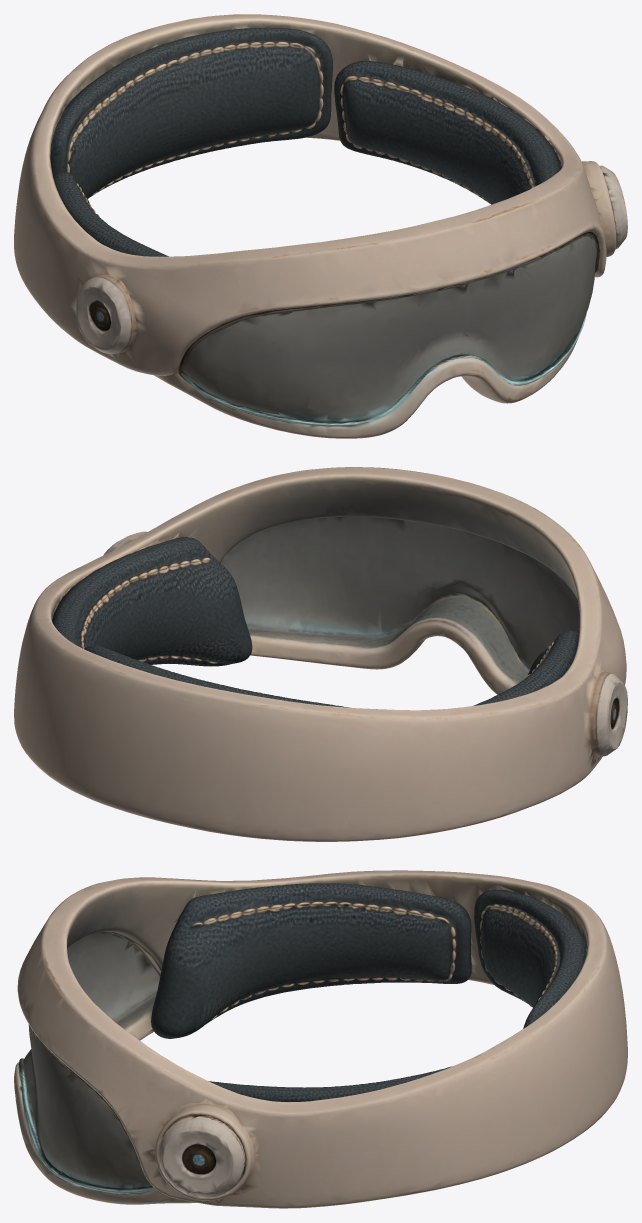
Rendered from headset.high.glb.
The picture shows the model from 3 angles, top to bottom: view 1: azimuth 30°, elevation 25°; view 2: azimuth 150°, elevation 25°; view 3: azimuth 270°, elevation 25°; orthographic projection. The views are drawn at different scales.
Parts seen in each view (by area): view 1: tripo_node_df2202d5-7eec-4927-8cea-a10c34fa3301; view 2: tripo_node_df2202d5-7eec-4927-8cea-a10c34fa3301; view 3: tripo_node_df2202d5-7eec-4927-8cea-a10c34fa3301.
Part boxes in pixels (x1,y1,x2,y2): tripo_node_df2202d5-7eec-4927-8cea-a10c34fa3301: (14, 14, 627, 438); tripo_node_df2202d5-7eec-4927-8cea-a10c34fa3301: (14, 467, 627, 841); tripo_node_df2202d5-7eec-4927-8cea-a10c34fa3301: (14, 870, 627, 1208).
Bounding box in the file's own units: 0.2 × 0.0721 × 0.2041.
Materials: 1 (1 with a texture image).
